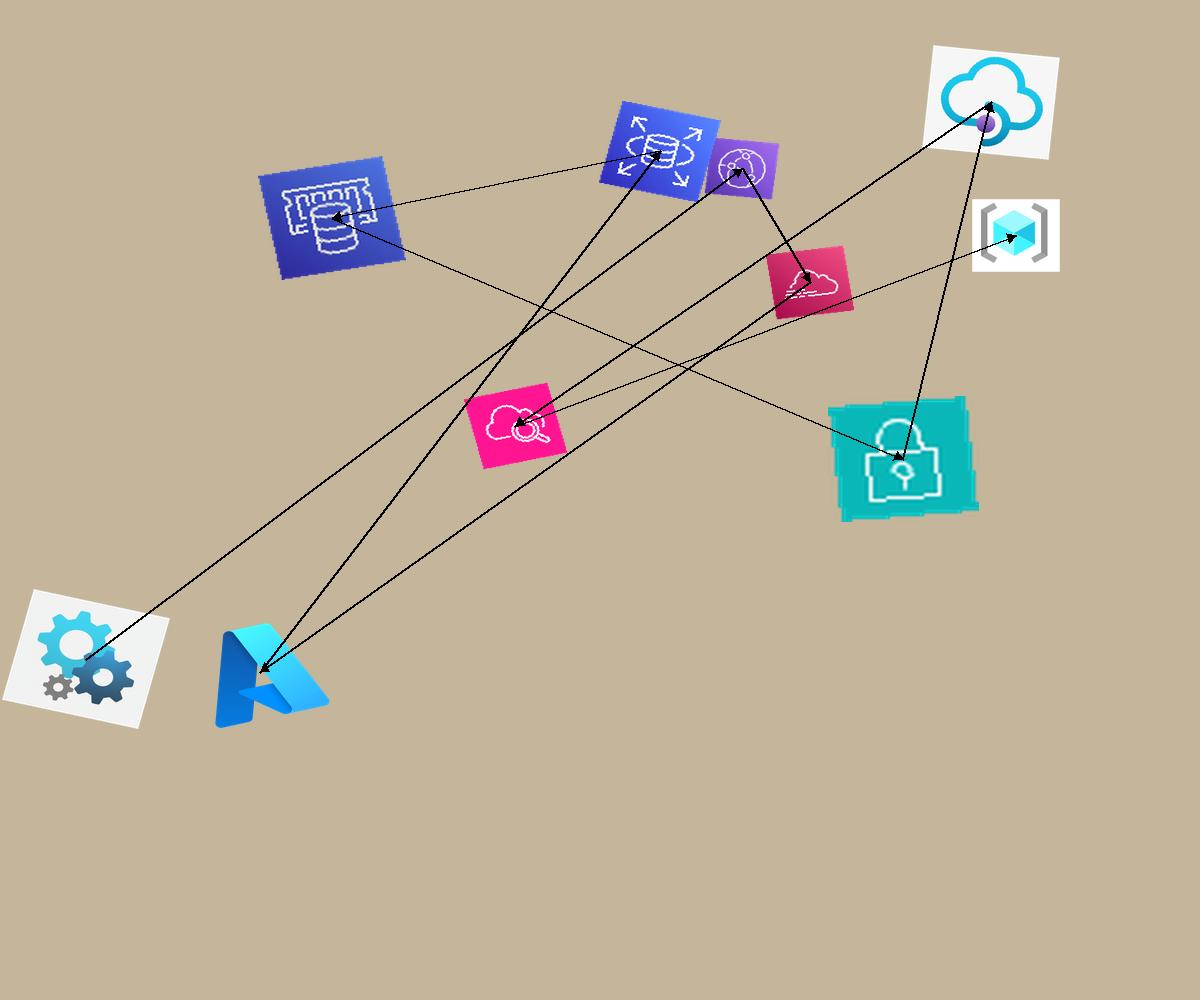AWS-CloudFront: (704, 137, 780, 200)
AWS-CloudTrail: (765, 245, 855, 320)
AWS-CloudWatch: (463, 382, 568, 470)
AWS-ElastiCache: (258, 156, 406, 280)
AWS-Private-subnet: (828, 396, 979, 522)
AWS-RDS: (598, 100, 722, 203)
Azure_api: (2, 589, 170, 729)
Azure_api_gateway: (922, 45, 1060, 160)
Azure_resource_group: (972, 199, 1060, 272)
Azure_services: (182, 607, 338, 737)
